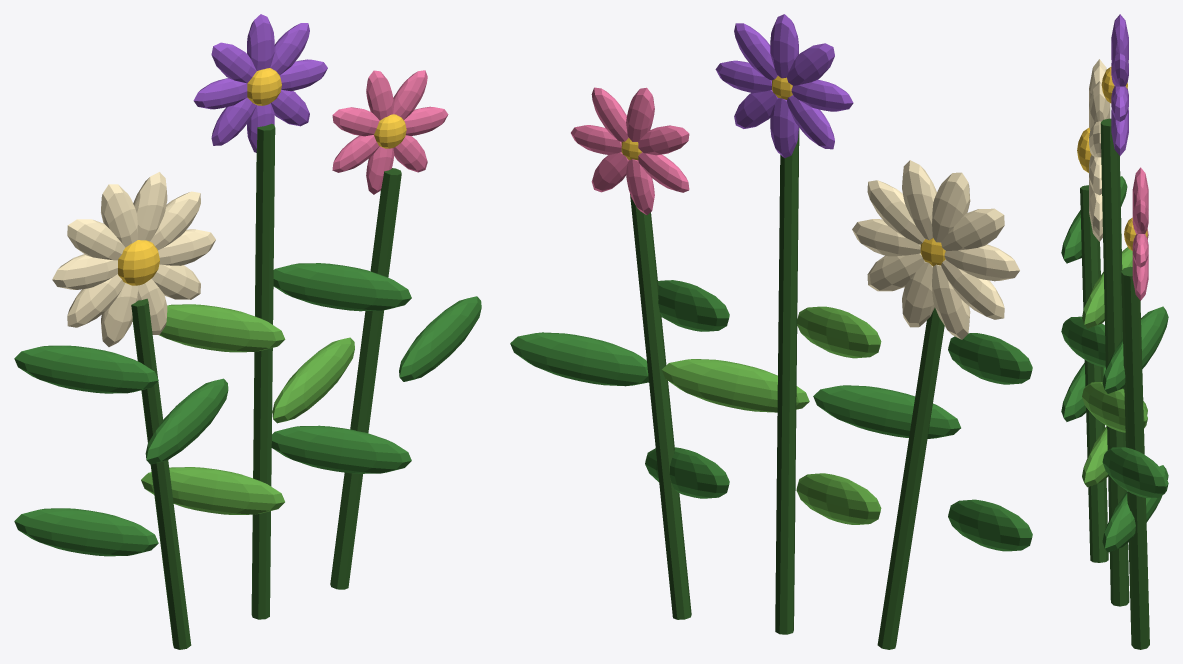
File: meadow_flowers.obj
3 renders of one model, left to right at view 1: azimuth 30°, elevation 25°; view 2: azimuth 150°, elevation 25°; view 3: azimuth 270°, elevation 25°, orthographic. The views are drawn at different scales.
Parts seen in each view (by area): view 1: meadow_flowers; view 2: meadow_flowers; view 3: meadow_flowers.
Part boxes in pixels (box(x1,y1,x2,y2)): meadow_flowers: box(14, 14, 481, 649); meadow_flowers: box(510, 14, 1032, 649); meadow_flowers: box(1061, 14, 1168, 649).
Bounding box in the file's own units: 0.5335 × 0.6298 × 0.1043.
